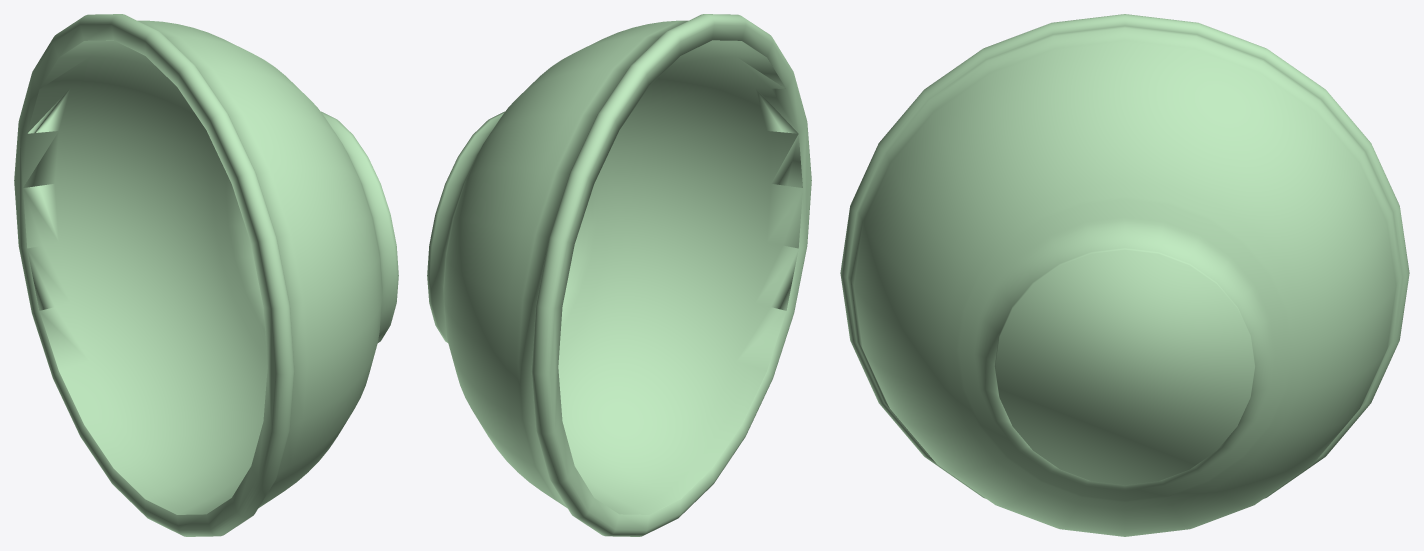
The model's file is bowl1_0.dae.
3 renders of one model, left to right at view 1: azimuth 30°, elevation 25°; view 2: azimuth 150°, elevation 25°; view 3: azimuth 270°, elevation 25°, orthographic. The views are drawn at different scales.
Visible parts, largest first — view 1: bowl1_019; view 2: bowl1_019; view 3: bowl1_019.
Boxes of the visible parts, bbox=[...] form: bowl1_019: bbox=[14, 14, 398, 536]; bowl1_019: bbox=[427, 14, 811, 536]; bowl1_019: bbox=[840, 14, 1409, 536].
Bounding box in the file's own units: 0.0894 × 0.217 × 0.217.
